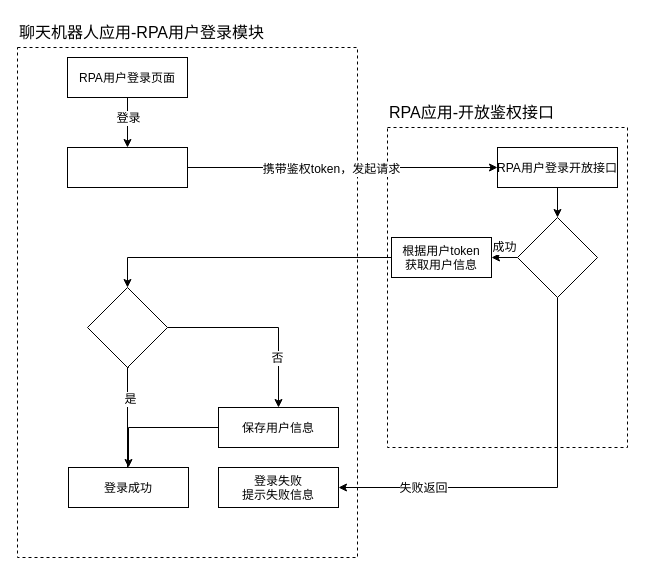
This 645x575 diagram has some shape labels left out. The box of each missing label's shape, as (x1, y1, x2, y2) in pixels:
请求RPA鉴权接口: (66, 146, 188, 188)
验证token 有效性: (516, 216, 598, 298)
验证用户是 否已注册: (86, 286, 168, 368)
